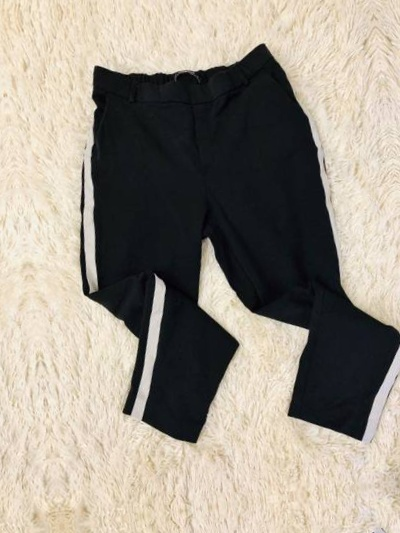Pants: (41, 16, 400, 472), (0, 68, 15, 525), (390, 0, 400, 427), (108, 530, 400, 533)
